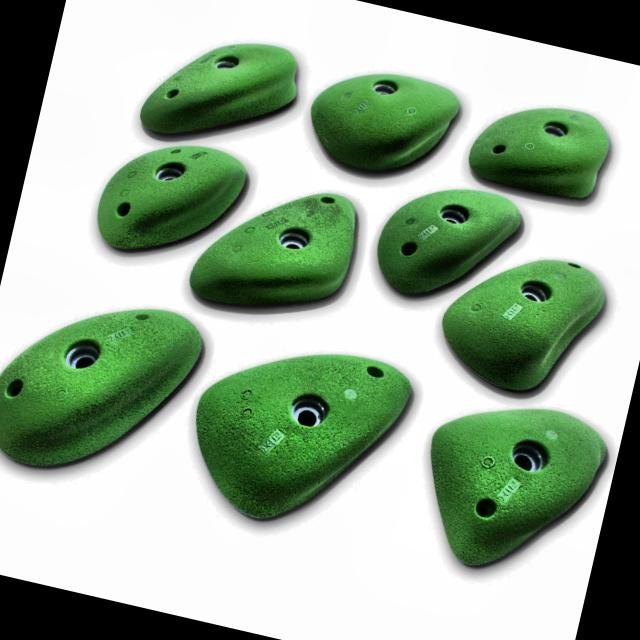Hold: (178, 326, 418, 549), (0, 278, 208, 500), (399, 386, 614, 594), (181, 164, 367, 334), (83, 123, 264, 280), (434, 238, 606, 400), (134, 17, 308, 160), (299, 54, 470, 193), (362, 173, 523, 320), (463, 88, 622, 210)
